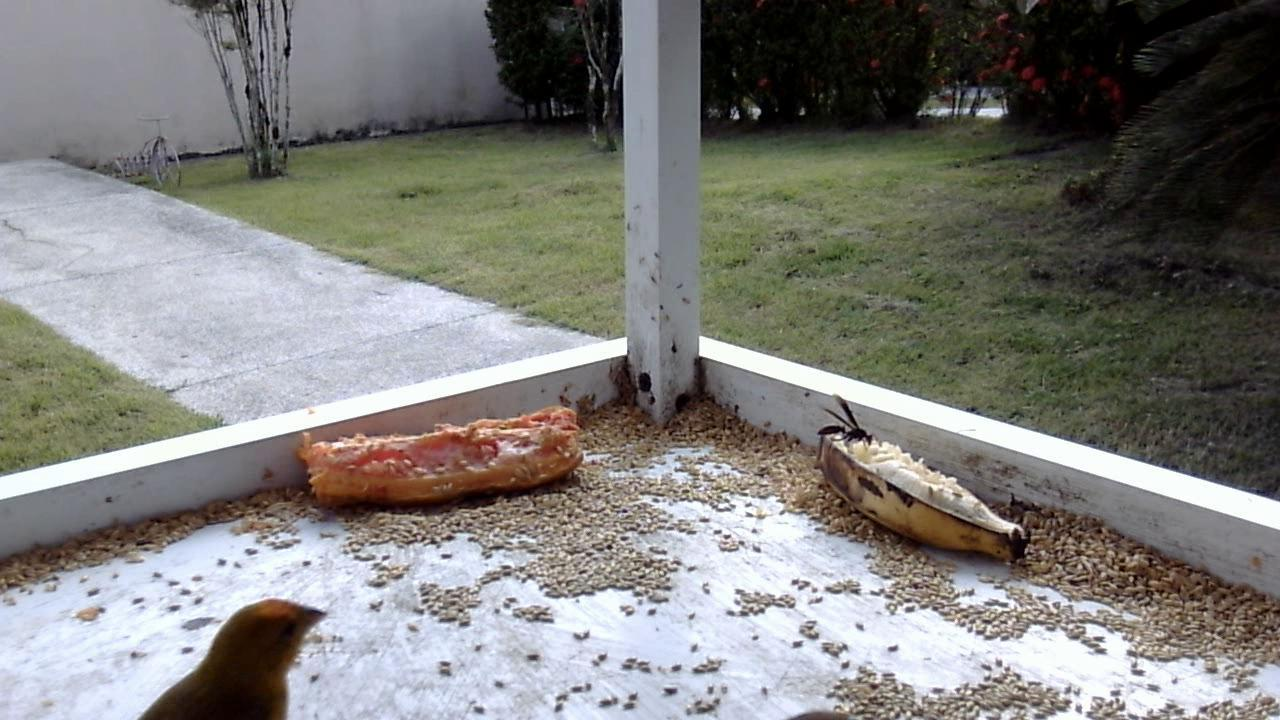canario_do_amazonas: (110, 592, 340, 715)
